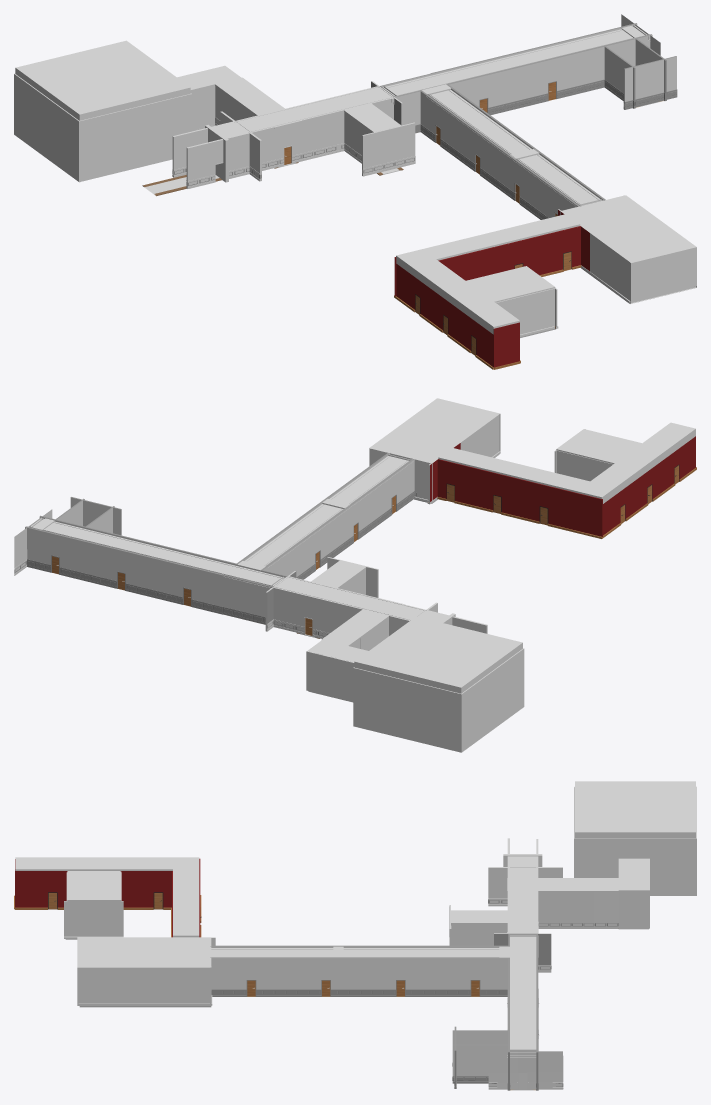
Rendered from Stage1.fbx.
The picture shows the model from 3 angles, top to bottom: view 1: azimuth 30°, elevation 25°; view 2: azimuth 150°, elevation 25°; view 3: azimuth 270°, elevation 25°; orthographic projection. The views are drawn at different scales.
Visible parts, largest first — view 1: Corridor2, Corridor2.1, Corridor1, Room1, Room3_Ceiling, Room3_Wall2.001, Room3_Wall3.001, StartingRoom, Corridor2.004, Corridor2.002; view 2: Corridor2.1, Corridor1, Corridor2, Room3_Ceiling, Room3_Wall2, Room1, Room3_Wall3.001, Corridor2.004, Corridor2.002, StartingRoom, Room1RealWall, Corridor2.1_Door.014; view 3: Corridor2.1, Corridor2, Room1, Corridor1, Room3_Ceiling, Room3_Wall3, StartingRoom, Corridor2.002, Corridor2.004, Corridor2.1_Door.014, Bluewall.005.
Part boxes in pixels (left/top/right/bottom): Corridor2: left=142, top=65, right=415, bottom=196; Corridor2.1: left=380, top=23, right=677, bottom=219; Corridor1: left=394, top=210, right=589, bottom=369; Room1: left=558, top=195, right=696, bottom=303; Room3_Ceiling: left=15, top=40, right=190, bottom=120; Room3_Wall2.001: left=78, top=94, right=190, bottom=181; Room3_Wall3.001: left=14, top=74, right=80, bottom=182; StartingRoom: left=466, top=266, right=558, bottom=337; Corridor2.004: left=380, top=23, right=650, bottom=96; Corridor2.002: left=426, top=88, right=604, bottom=206; Corridor2.1: left=25, top=453, right=414, bottom=624; Corridor1: left=430, top=422, right=696, bottom=538; Corridor2: left=272, top=557, right=487, bottom=702; Room3_Ceiling: left=354, top=616, right=522, bottom=693; Room3_Wall2: left=353, top=667, right=462, bottom=752; Room1: left=369, top=398, right=500, bottom=504; Room3_Wall3.001: left=461, top=648, right=523, bottom=751; Corridor2.004: left=27, top=516, right=286, bottom=588; Corridor2.002: left=243, top=453, right=412, bottom=567; StartingRoom: left=554, top=429, right=641, bottom=481; Room1RealWall: left=369, top=448, right=432, bottom=499; Corridor2.1_Door.014: left=14, top=509, right=52, bottom=575; Corridor2.1: left=211, top=934, right=539, bottom=1090; Corridor2: left=449, top=838, right=649, bottom=945; Room1: left=77, top=937, right=215, bottom=1007; Corridor1: left=14, top=857, right=201, bottom=937; Room3_Ceiling: left=575, top=781, right=695, bottom=838; Room3_Wall3: left=574, top=838, right=696, bottom=895; StartingRoom: left=64, top=871, right=123, bottom=939; Corridor2.002: left=210, top=946, right=499, bottom=957; Corridor2.004: left=507, top=934, right=538, bottom=1057; Corridor2.1_Door.014: left=488, top=1051, right=563, bottom=1089; Bluewall.005: left=494, top=933, right=551, bottom=972.
Bounding box in the file's own units: 11101 × 1326 × 12945.
